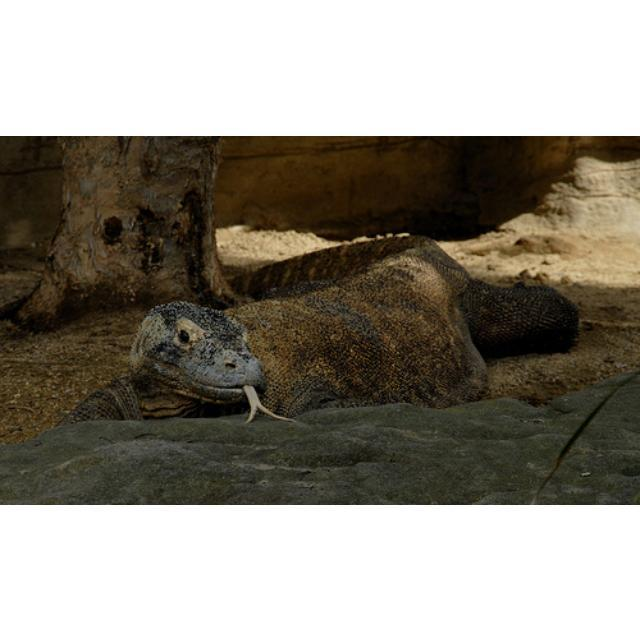KomodoDragon: (50, 227, 578, 425)
